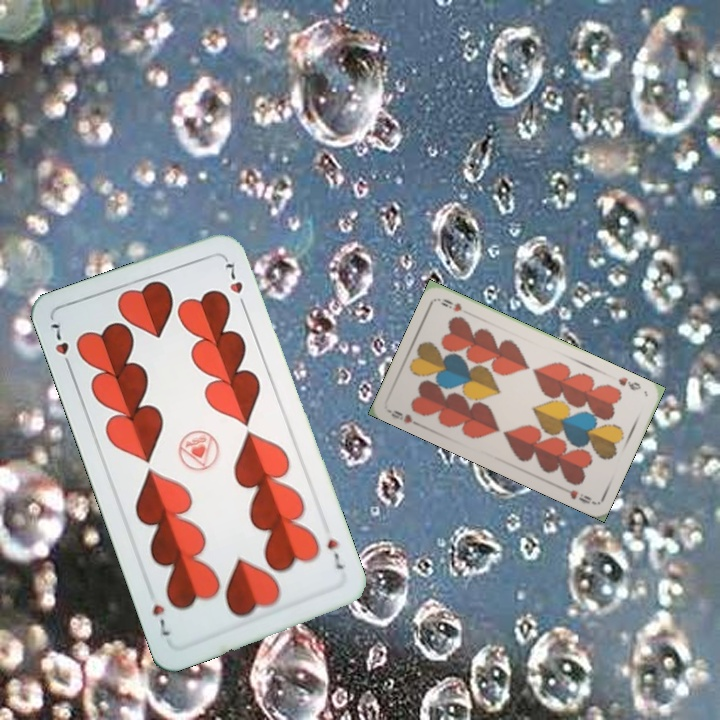H7: (47, 319, 75, 374), (323, 535, 347, 572)
H9: (385, 406, 424, 429), (614, 373, 644, 393)
